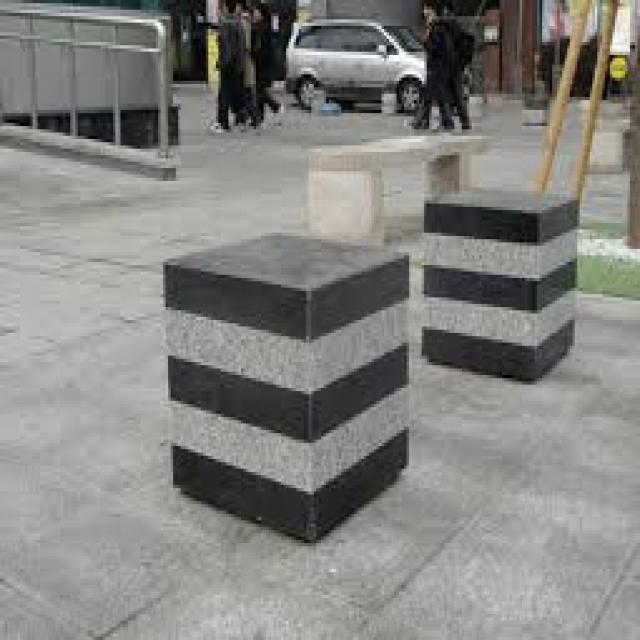bollard: (153, 220, 415, 549), (422, 182, 578, 377)
